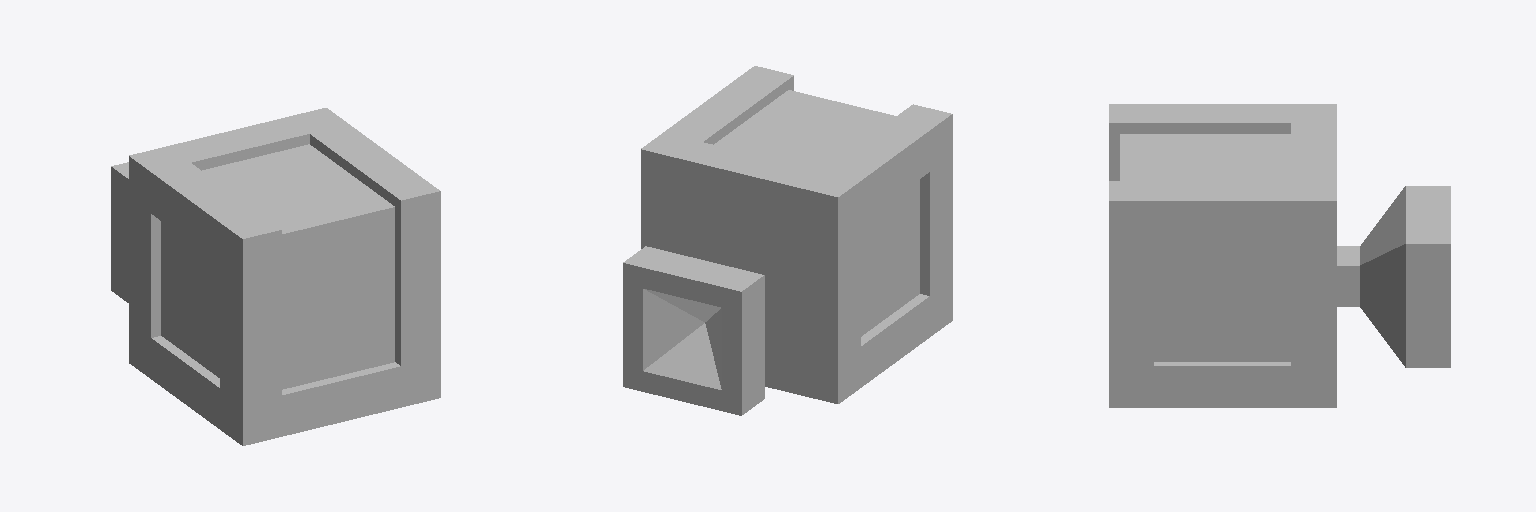
Rendered from head_doot.obj.
3 views of the same model, side by side, from view 1: azimuth 30°, elevation 25°; view 2: azimuth 150°, elevation 25°; view 3: azimuth 270°, elevation 25° (orthographic).
Parts seen in each view (by area): view 1: HEAD_DOOT_Cube.032; view 2: HEAD_DOOT_Cube.032; view 3: HEAD_DOOT_Cube.032.
Part boxes in pixels (x1,y1,x2,y2): HEAD_DOOT_Cube.032: (111,108,440,445); HEAD_DOOT_Cube.032: (623,66,952,415); HEAD_DOOT_Cube.032: (1109,104,1450,407).
Bounding box in the file's own units: 0.3125 × 0.3125 × 0.4688.